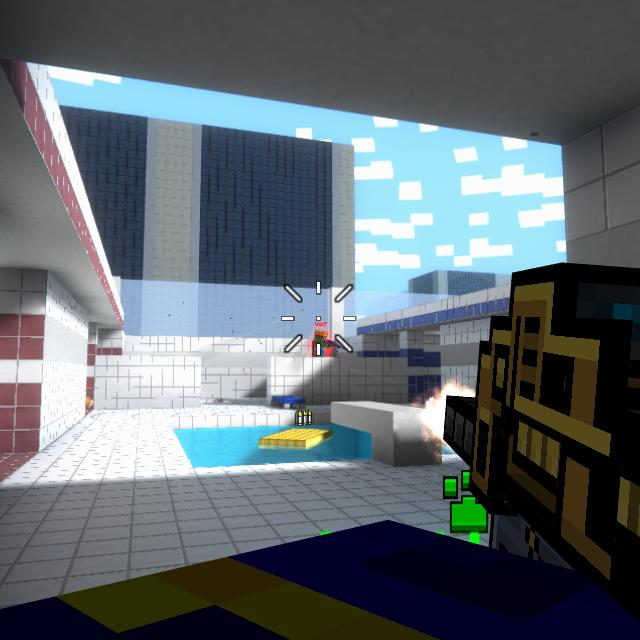Enemy: (314, 329, 330, 357)
